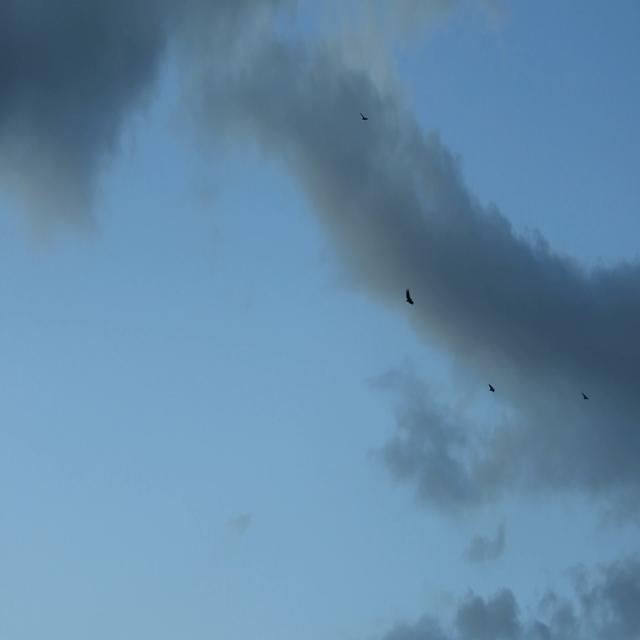bird: (404, 286, 415, 306), (358, 108, 369, 124), (488, 380, 497, 396), (581, 389, 589, 403)
